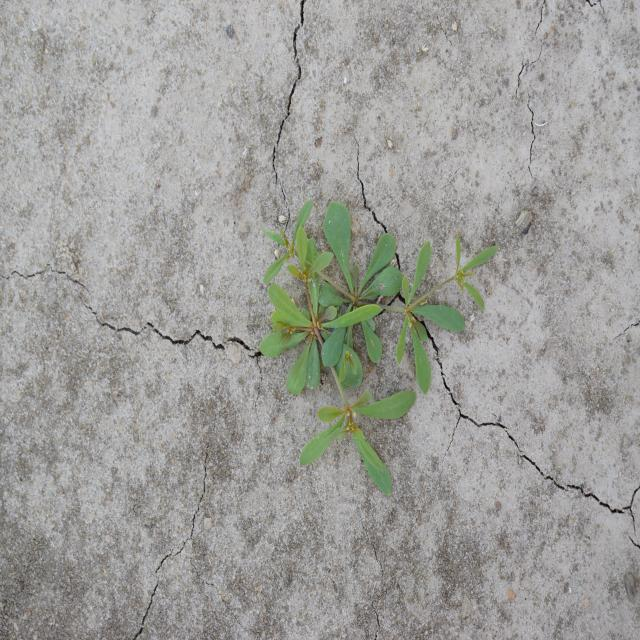Carpetweed: (255, 196, 500, 498)
